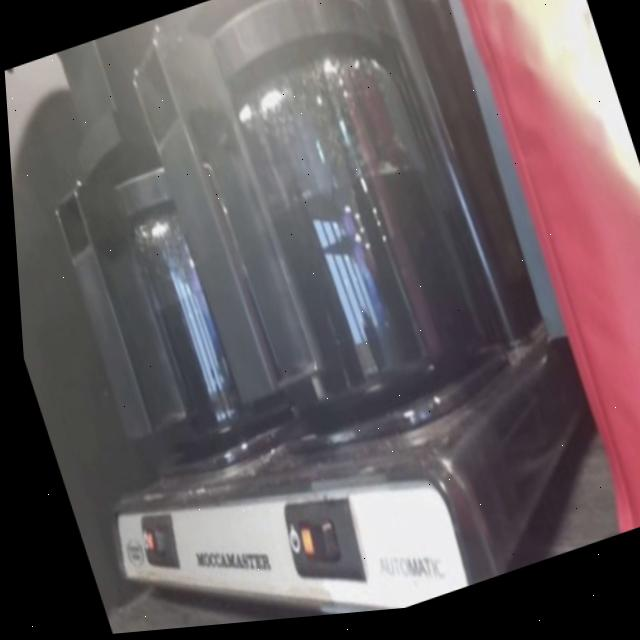coffee: (125, 0, 511, 475), (36, 107, 305, 496)
